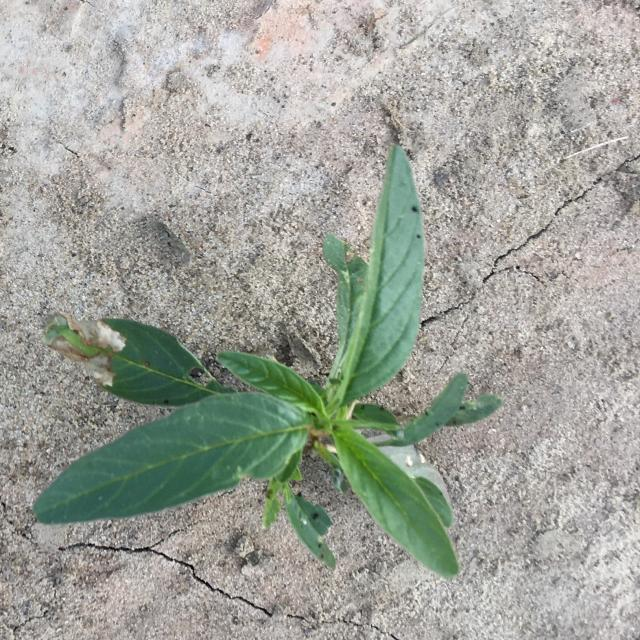Waterhemp: (31, 144, 503, 579)
